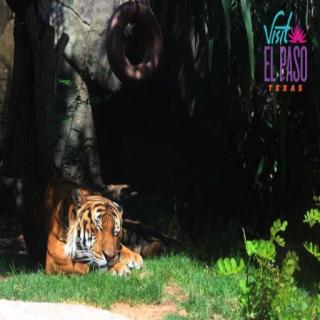Tiger: (26, 152, 146, 299)
